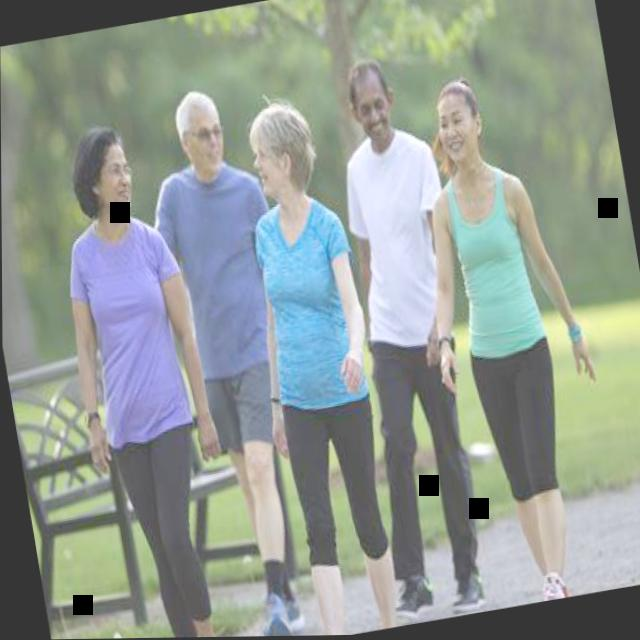NO-Mask: (244, 99, 318, 202), (69, 127, 139, 222), (429, 74, 490, 171), (171, 86, 230, 181), (342, 57, 400, 150)
